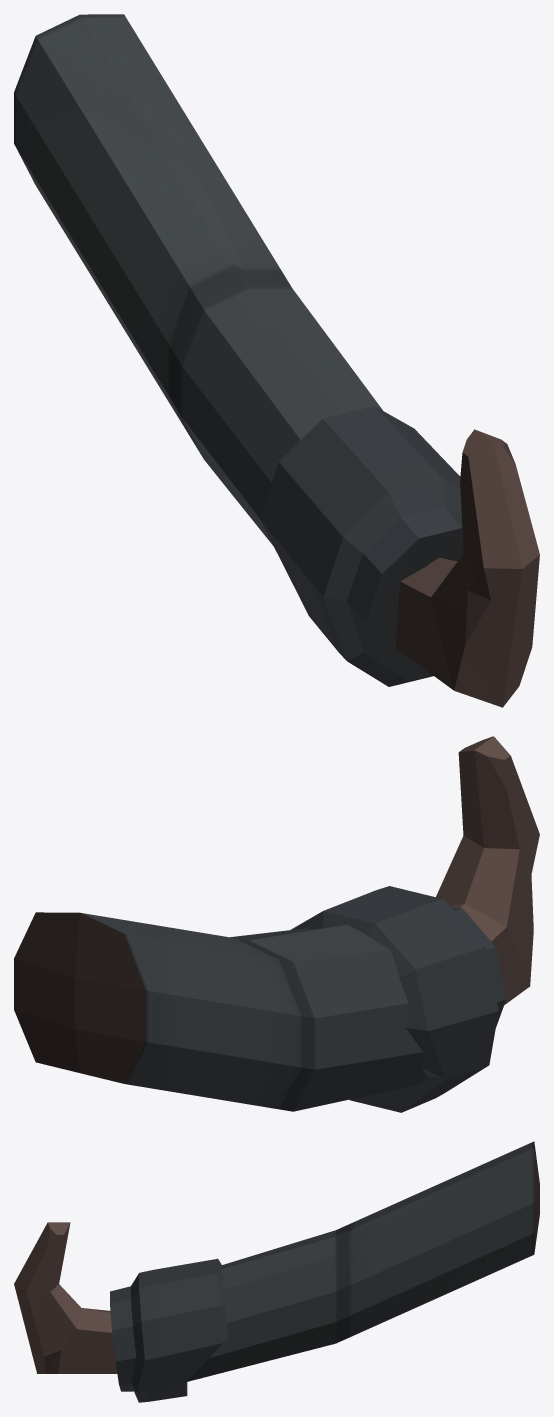
The model's file is SM_Bld_Roof_Edge_Small_Trim_End_02.fbx.
3 views of the same model, one above another, from view 1: azimuth 30°, elevation 25°; view 2: azimuth 150°, elevation 25°; view 3: azimuth 270°, elevation 25° (orthographic). The views are drawn at different scales.
Visible parts, largest first — view 1: SM_Bld_Roof_Edge_Small_Trim_End_02; view 2: SM_Bld_Roof_Edge_Small_Trim_End_02; view 3: SM_Bld_Roof_Edge_Small_Trim_End_02.
Boxes of the visible parts, bbox=[...] form: SM_Bld_Roof_Edge_Small_Trim_End_02: bbox=[14, 14, 539, 707]; SM_Bld_Roof_Edge_Small_Trim_End_02: bbox=[14, 736, 539, 1112]; SM_Bld_Roof_Edge_Small_Trim_End_02: bbox=[14, 1141, 539, 1402].
Size of the model in its own units: 37.27 by 85.92 by 166.
